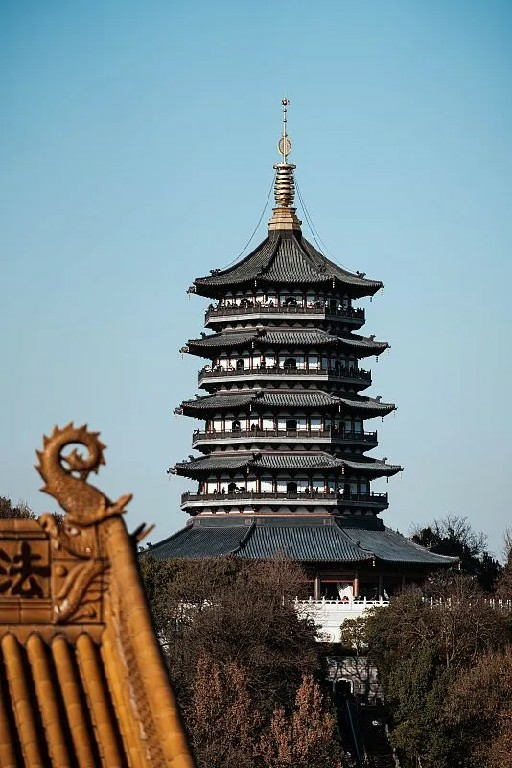Leifeng: (126, 97, 466, 601)
